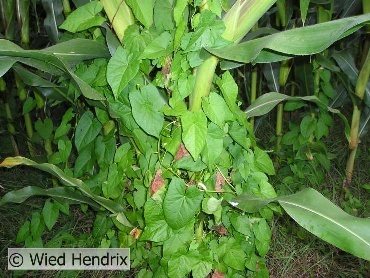haagwinde: (102, 41, 169, 144), (179, 96, 232, 165), (160, 173, 210, 236), (68, 109, 100, 178)
